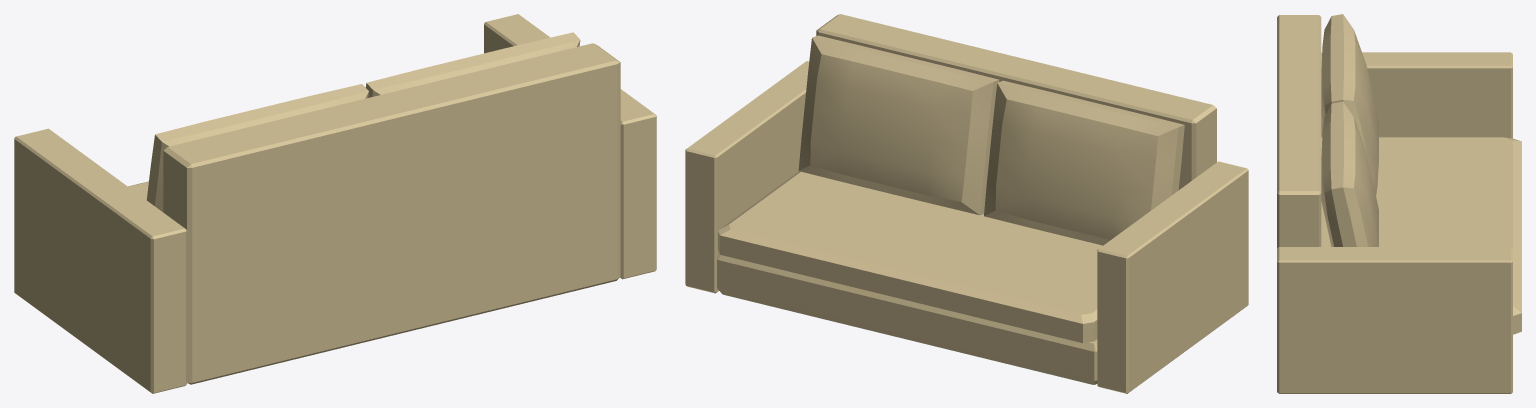
Rendered from CouchTexture.fbx.
3 views of the same model, side by side, from view 1: azimuth 30°, elevation 25°; view 2: azimuth 150°, elevation 25°; view 3: azimuth 270°, elevation 25° (orthographic). The views are drawn at different scales.
Parts seen in each view (by area): view 1: polySurface16; view 2: polySurface16; view 3: polySurface16.
Part boxes in pixels (bbox=[...]): polySurface16: bbox=[14, 14, 656, 393]; polySurface16: bbox=[685, 14, 1248, 393]; polySurface16: bbox=[1277, 14, 1521, 393].
Size of the model in its own units: 8.4 by 3.53 by 4.15.
